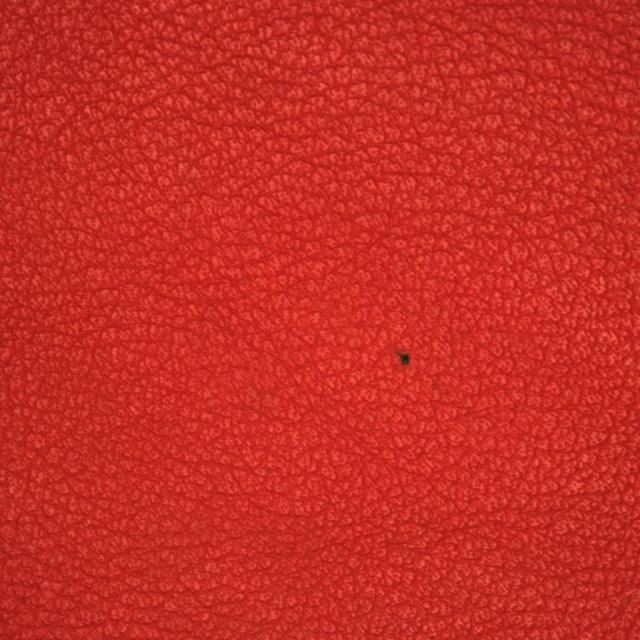Hole: (333, 281, 475, 431)
